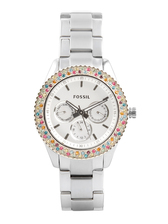watch: (29, 7, 141, 211)
